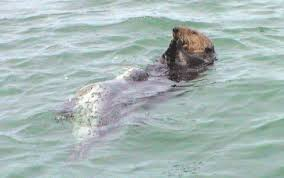otter: (150, 21, 235, 90)
